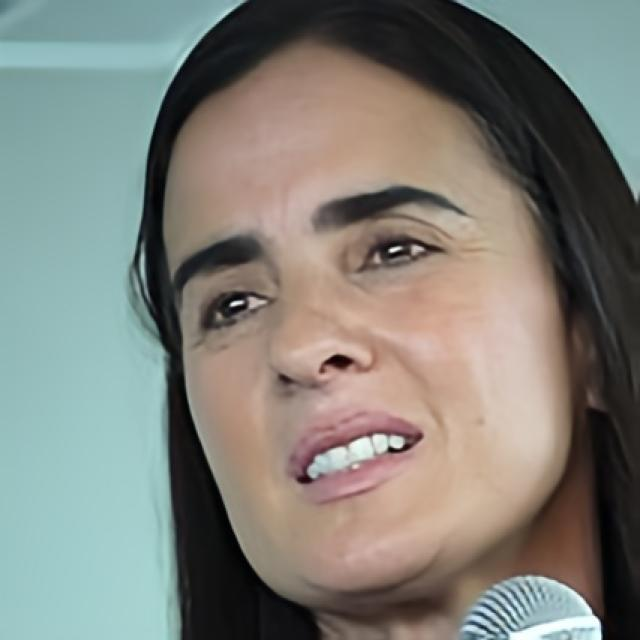disgust: (158, 31, 574, 608)
